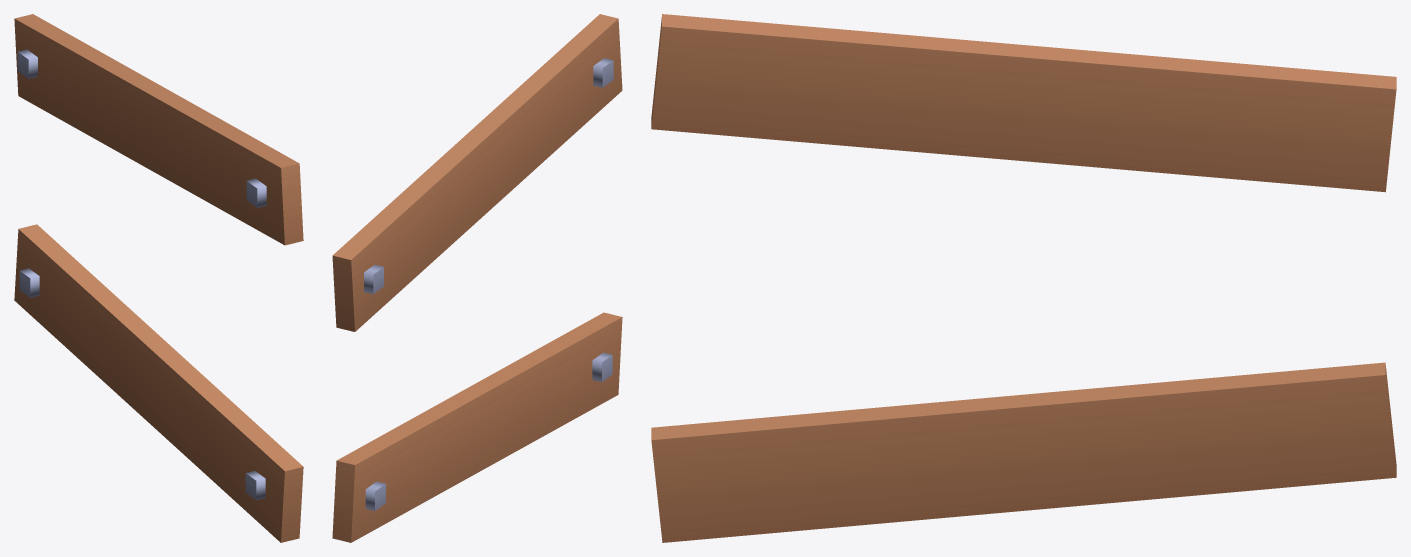
Rendered from barricade-window-a.optimized.glb.
The picture shows the model from 3 angles, left to right: view 1: azimuth 30°, elevation 25°; view 2: azimuth 150°, elevation 25°; view 3: azimuth 270°, elevation 25°; orthographic projection. The views are drawn at different scales.
Parts seen in each view (by area): view 1: barricade-window-a; view 2: barricade-window-a; view 3: barricade-window-a.
Boxes of the visible parts, box(x1,y1,x2,y2) form: barricade-window-a: box(14, 14, 303, 542); barricade-window-a: box(332, 14, 622, 542); barricade-window-a: box(651, 14, 1396, 542).
Size of the model in its own units: 0.075 by 0.9602 by 1.26.
1 material, 1 textured.
